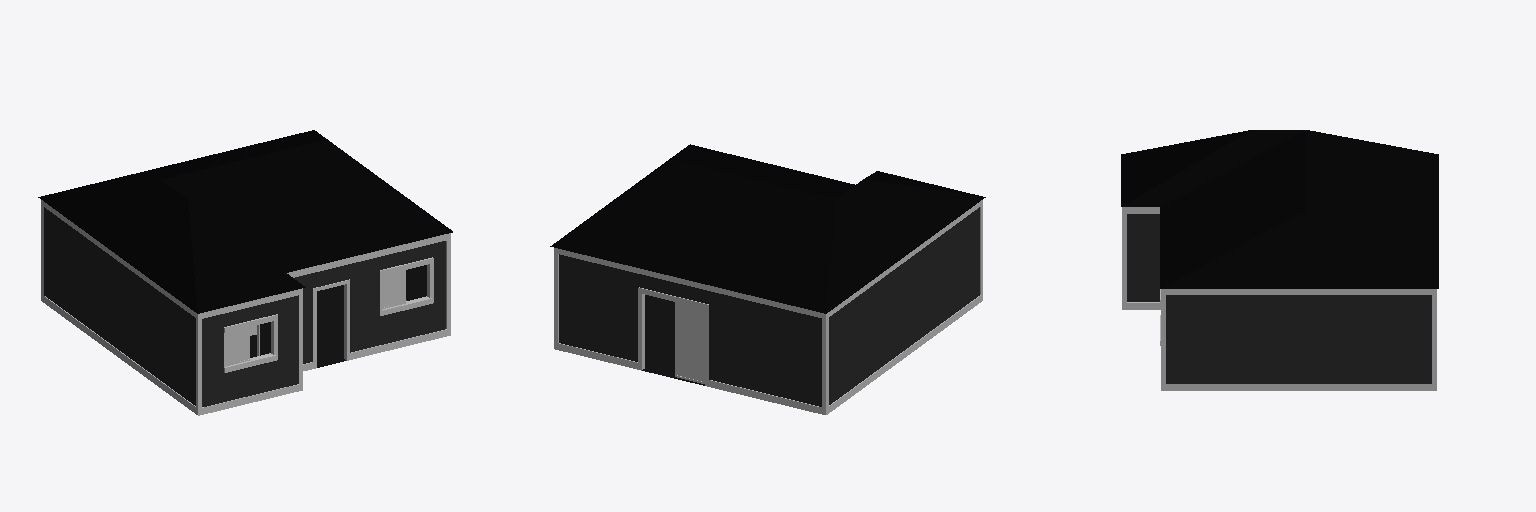
The model's file is casa.obj.
The picture shows the model from 3 angles: view 1: azimuth 30°, elevation 25°; view 2: azimuth 150°, elevation 25°; view 3: azimuth 270°, elevation 25°; orthographic projection.
Parts seen in each view (by area): view 1: Vert; view 2: Vert; view 3: Vert.
Part boxes in pixels (x1,y1,x2,y2): Vert: (38,130,452,415); Vert: (550,144,985,414); Vert: (1121,130,1438,390).
Size of the model in its own units: 16.55 by 9.9 by 16.55.